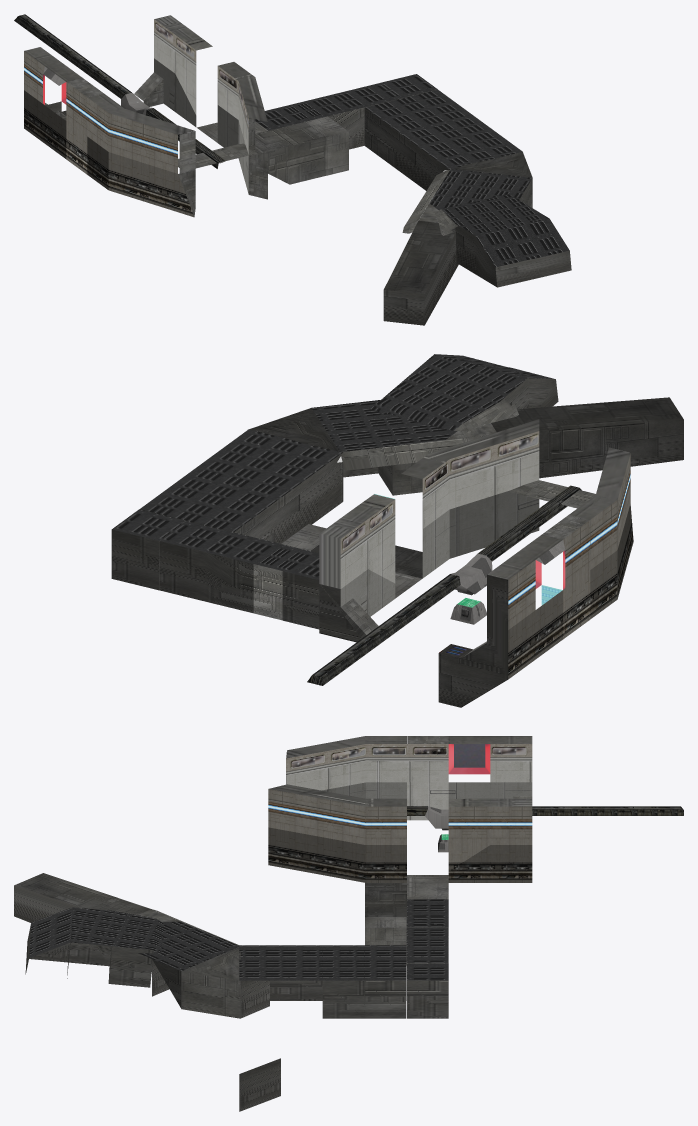
File: room3.gltf
3 renders of one model, top to bottom at view 1: azimuth 30°, elevation 25°; view 2: azimuth 150°, elevation 25°; view 3: azimuth 270°, elevation 25°, orthographic. The views are drawn at different scales.
Parts seen in each view (by area): view 1: polymsh19, polymsh_extracted18, polymsh_extracted20, polymsh_extracted21; view 2: polymsh19, polymsh_extracted18, polymsh_extracted20, polymsh_extracted21, polymsh_detached84; view 3: polymsh19, polymsh_extracted18, polymsh_extracted20, polymsh_extracted21.
Part boxes in pixels (<box>): polymsh19: <box>14,14,522,217</box>; polymsh_extracted18: <box>383,152,532,325</box>; polymsh_extracted20: <box>435,194,571,287</box>; polymsh_extracted21: <box>380,74,437,98</box>; polymsh19: <box>140,419,633,707</box>; polymsh_extracted18: <box>248,397,683,495</box>; polymsh_extracted20: <box>370,354,558,430</box>; polymsh_extracted21: <box>111,509,186,590</box>; polymsh_detached84: <box>450,590,486,624</box>; polymsh19: <box>239,736,683,1111</box>; polymsh_extracted18: <box>14,873,269,1018</box>; polymsh_extracted20: <box>25,907,163,987</box>; polymsh_extracted21: <box>407,963,448,1018</box>.
Bounding box in the file's own units: 56.26 × 13.75 × 64.22.
Materials: 17 (16 with a texture image).
